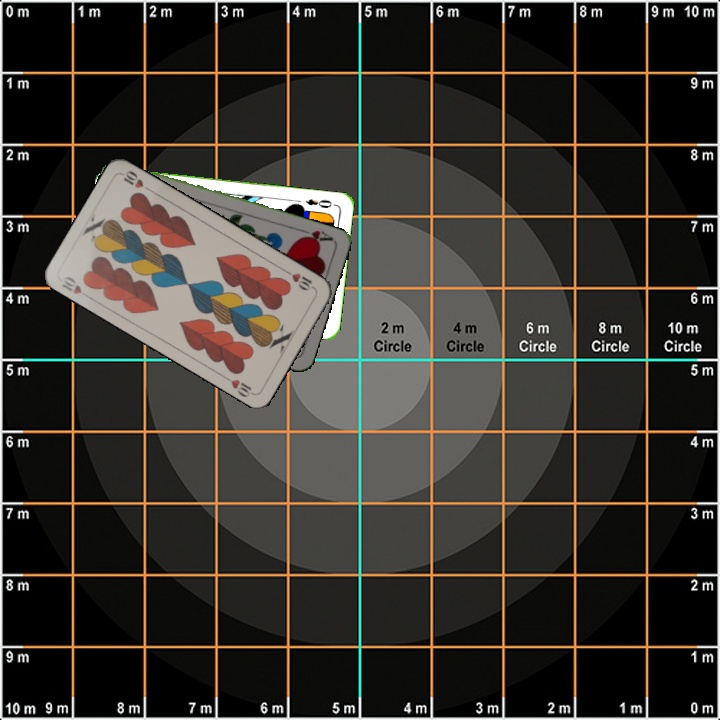EO: (302, 195, 338, 211)
H10: (58, 272, 93, 301), (281, 266, 318, 293)
HA: (295, 225, 336, 246)
